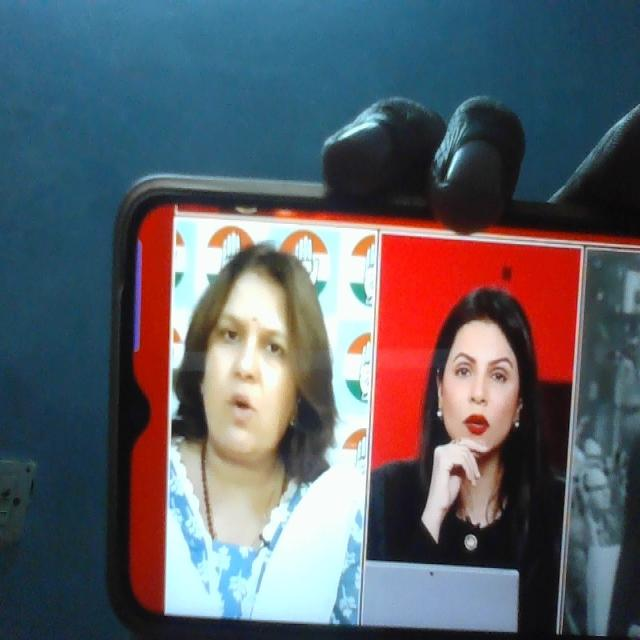fake: (195, 245, 311, 464), (428, 272, 534, 473)
